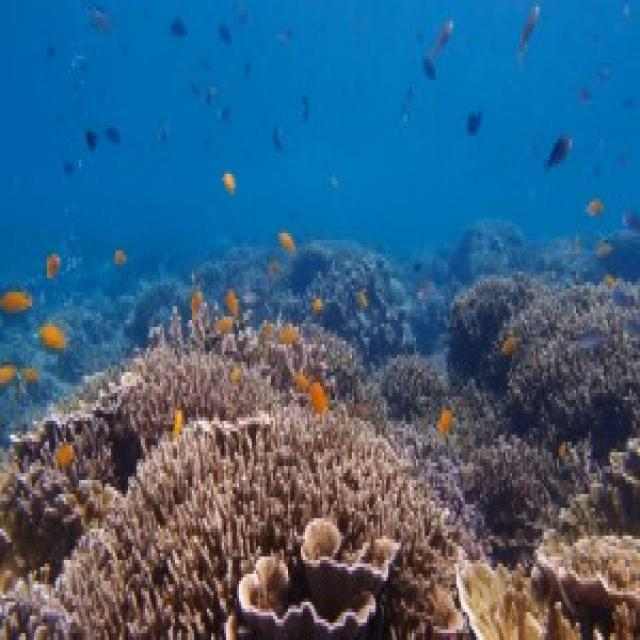Healthy: (56, 404, 449, 638), (458, 439, 639, 638), (1, 377, 159, 578), (82, 349, 272, 478), (502, 286, 639, 457), (238, 519, 400, 638), (462, 436, 549, 561), (381, 356, 500, 443), (449, 279, 532, 387), (306, 324, 366, 394), (1, 585, 78, 638)
